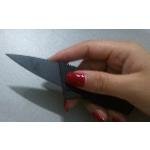Pisau: (4, 42, 140, 116)
